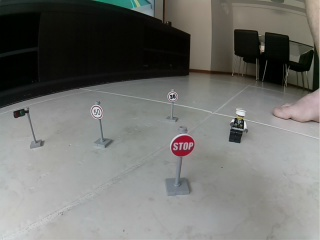Green Traffic Light: (12, 107, 44, 151)
Person: (228, 107, 249, 146)
Speed Limit 30: (167, 91, 178, 102)
Speed Limit 50: (90, 105, 103, 120)
Stop Sign: (170, 134, 195, 158)
